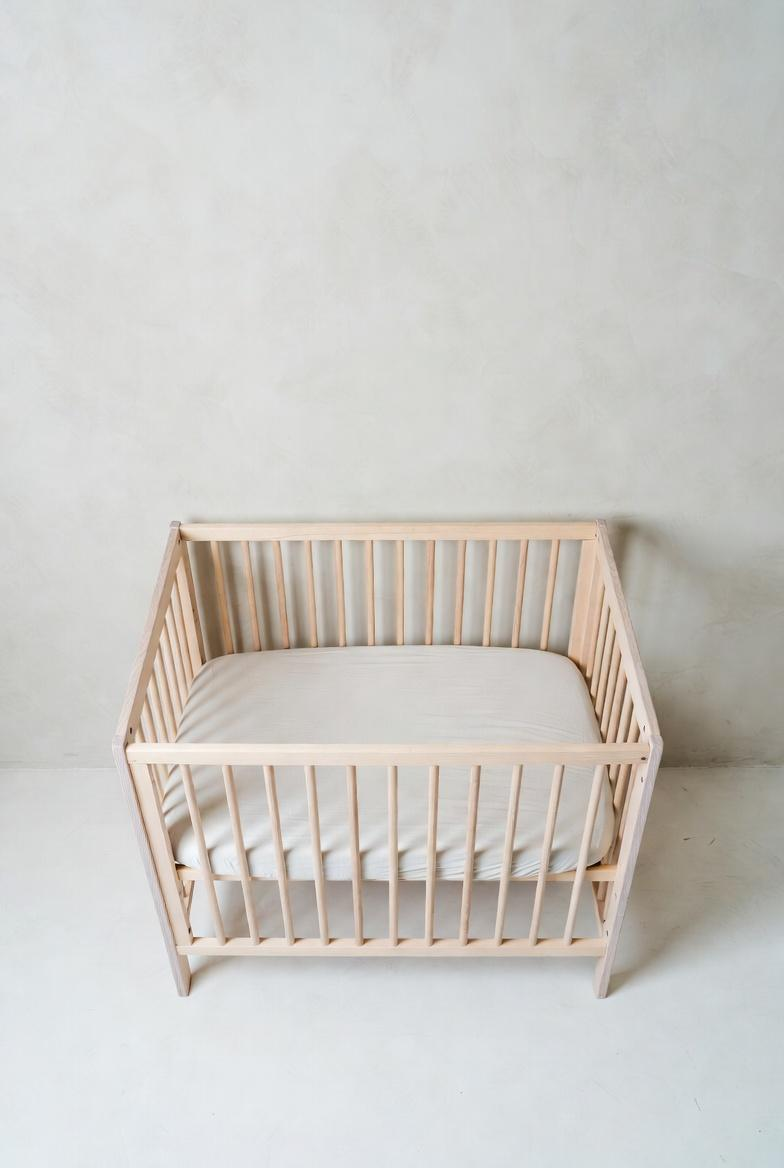crib: (114, 522, 661, 996)
